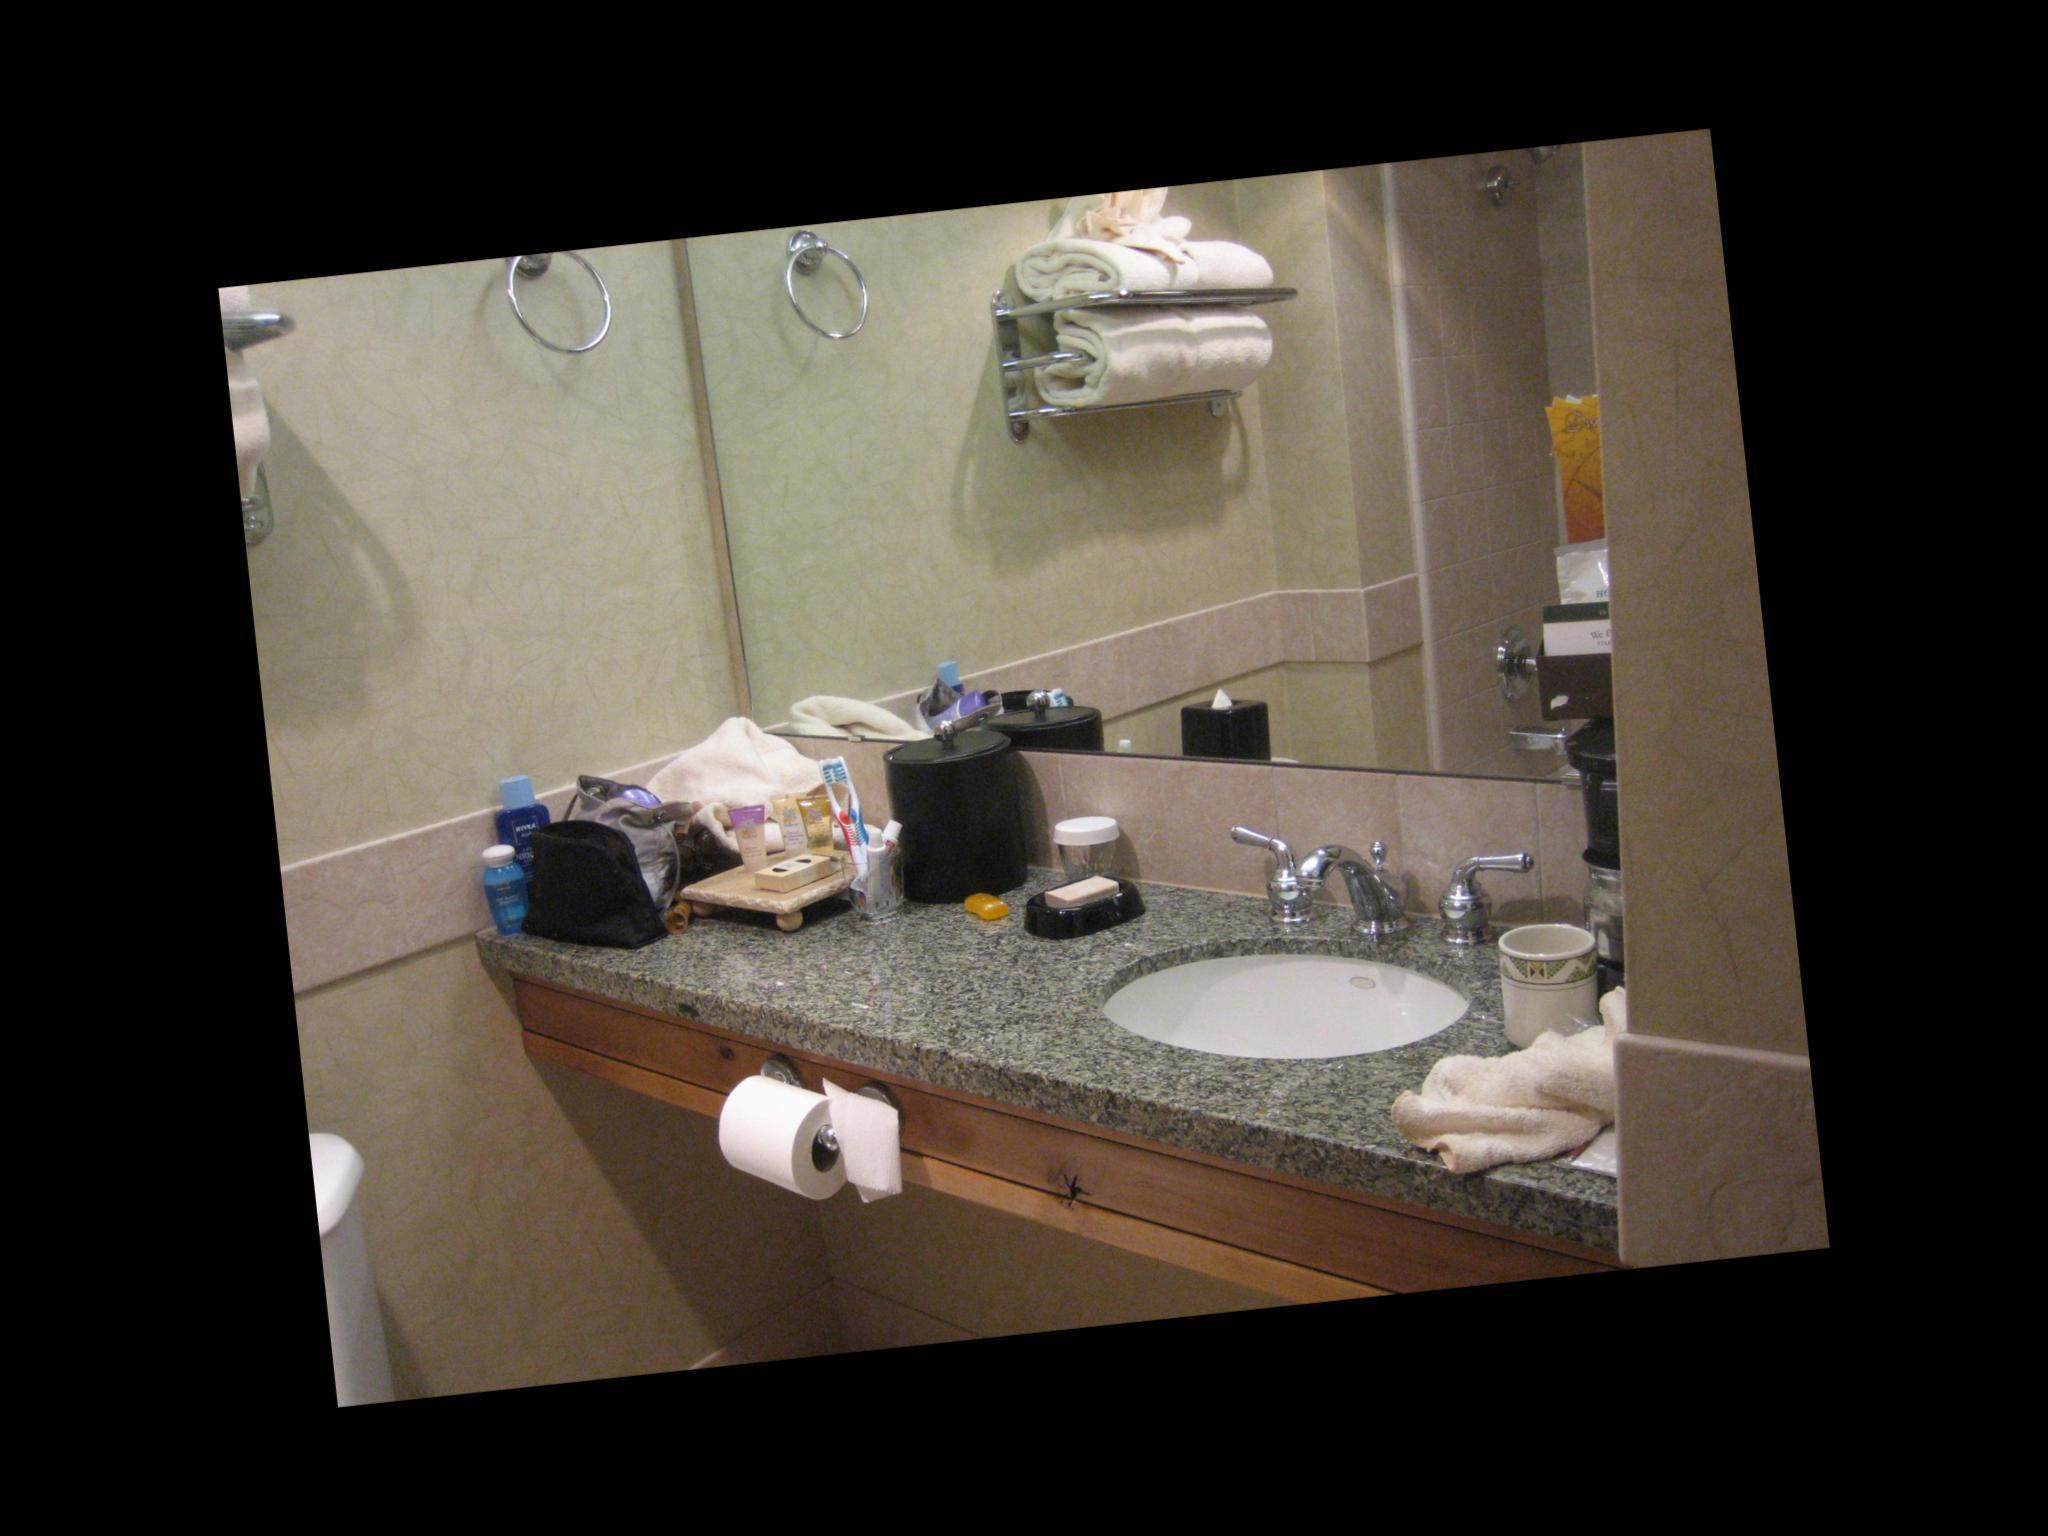Lavamanos: (1100, 795, 1530, 1157)
